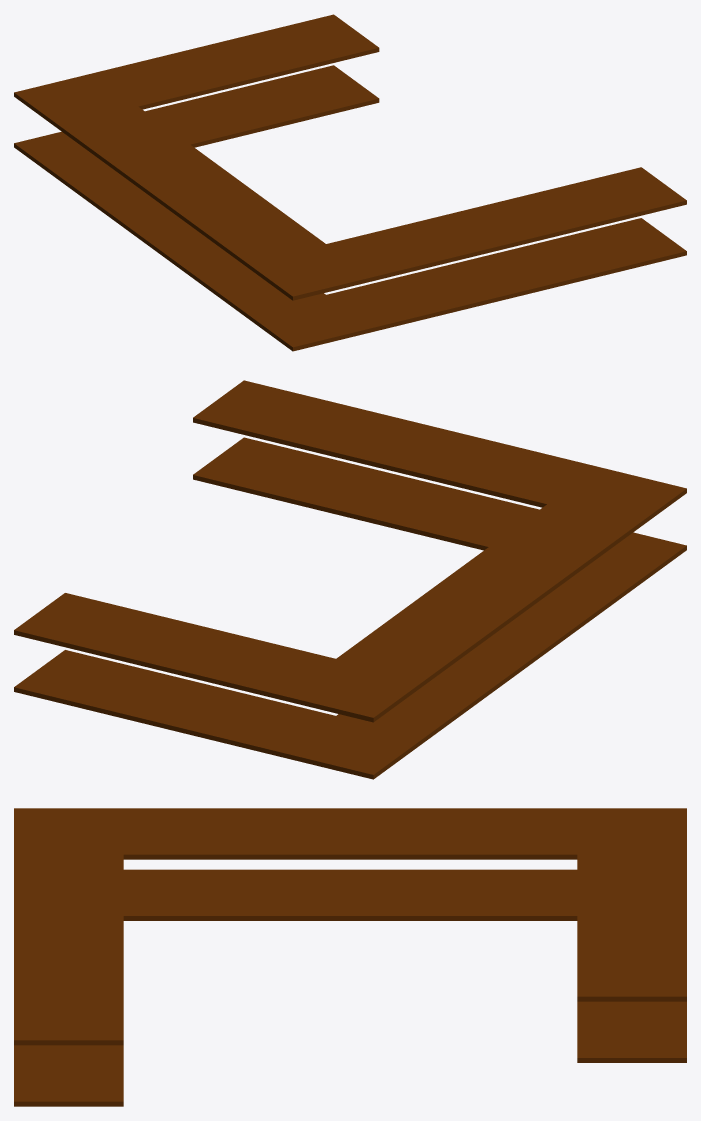
File: Shelfes.fbx
3 renders of one model, top to bottom at view 1: azimuth 30°, elevation 25°; view 2: azimuth 150°, elevation 25°; view 3: azimuth 270°, elevation 25°, orthographic. The views are drawn at different scales.
Parts seen in each view (by area): view 1: Cube.014; view 2: Cube.014; view 3: Cube.014.
Boxes of the visible parts, box(x1,y1,x2,y2) form: Cube.014: box(14, 14, 686, 351); Cube.014: box(14, 380, 686, 779); Cube.014: box(14, 808, 686, 1106).
Size of the model in its own units: 200 by 26.62 by 245.
